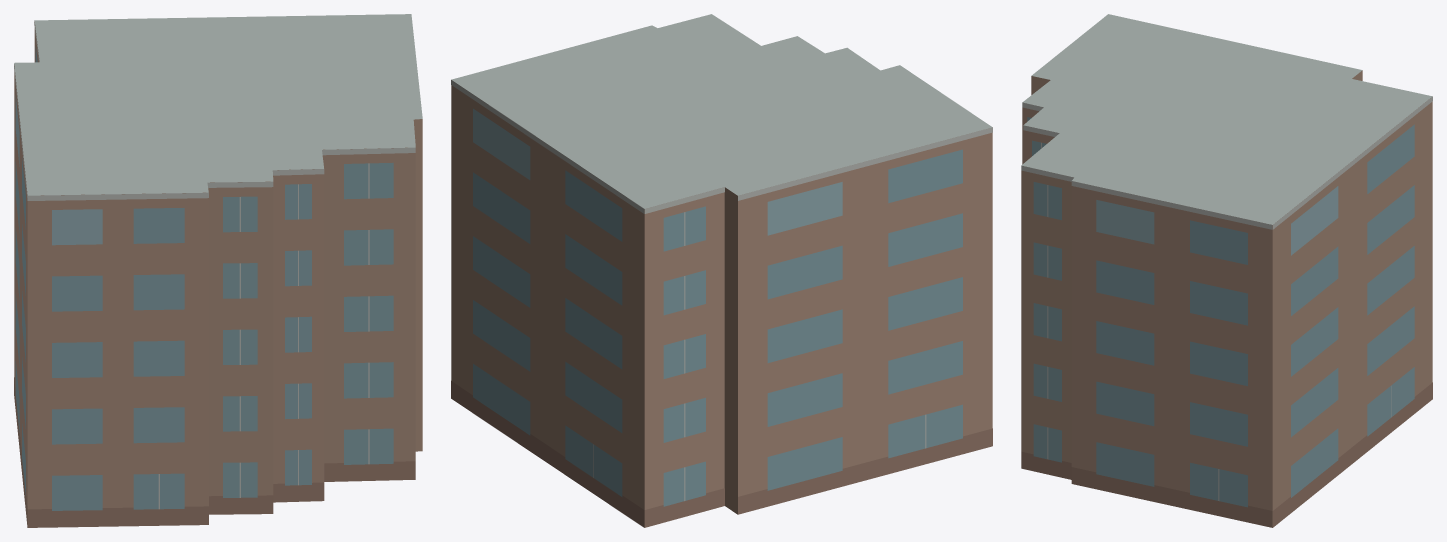
The model's file is survey-upis-33021327.glb.
3 views of the same model, side by side, from view 1: azimuth 30°, elevation 25°; view 2: azimuth 150°, elevation 25°; view 3: azimuth 270°, elevation 25° (orthographic). The views are drawn at different scales.
Parts seen in each view (by area): view 1: survey-upis-33021327.tmp; view 2: survey-upis-33021327.tmp; view 3: survey-upis-33021327.tmp.
Boxes of the visible parts, <box> form: survey-upis-33021327.tmp: <box>14,14,422,527</box>; survey-upis-33021327.tmp: <box>451,14,992,527</box>; survey-upis-33021327.tmp: <box>1021,14,1432,527</box>.
Bounding box in the file's own units: 22.26 × 14.9 × 18.35.
